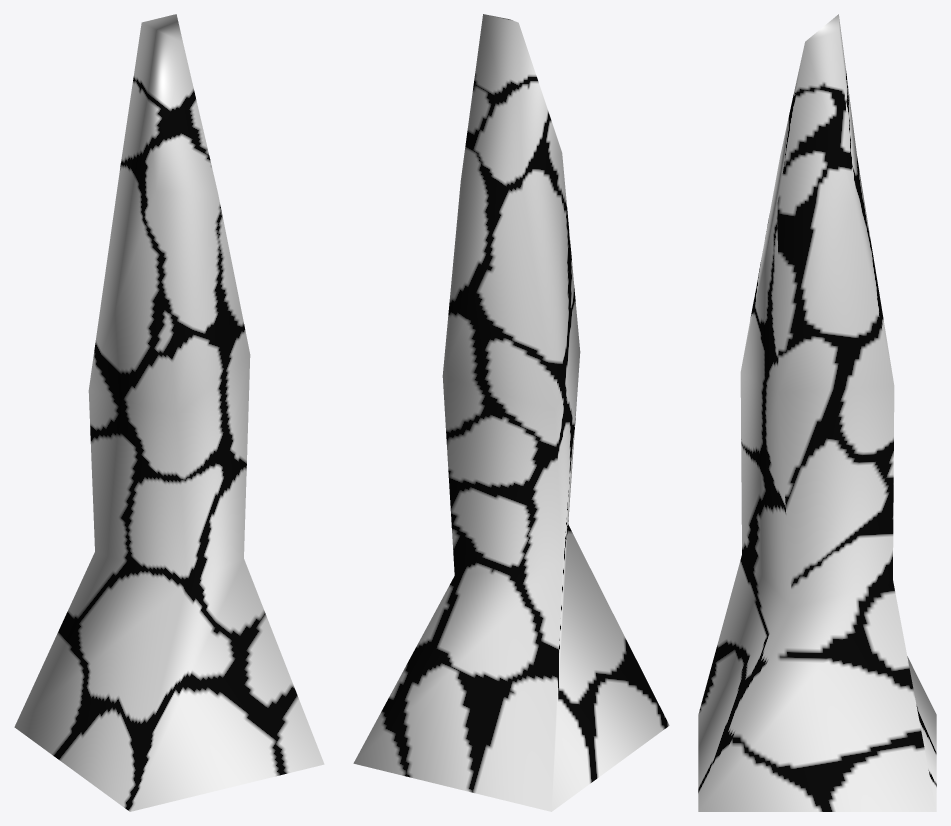
File: Stone_04_03.fbx
The picture shows the model from 3 angles, left to right: view 1: azimuth 30°, elevation 25°; view 2: azimuth 150°, elevation 25°; view 3: azimuth 270°, elevation 25°; orthographic projection. The views are drawn at different scales.
Visible parts, largest first — view 1: Stone_04_03; view 2: Stone_04_03; view 3: Stone_04_03.
Part boxes in pixels (x1,y1,x2,y2): Stone_04_03: [14, 14, 324, 811]; Stone_04_03: [353, 14, 669, 811]; Stone_04_03: [698, 14, 936, 811].
Bounding box in the file's own units: 2.07 × 7.32 × 2.13.
